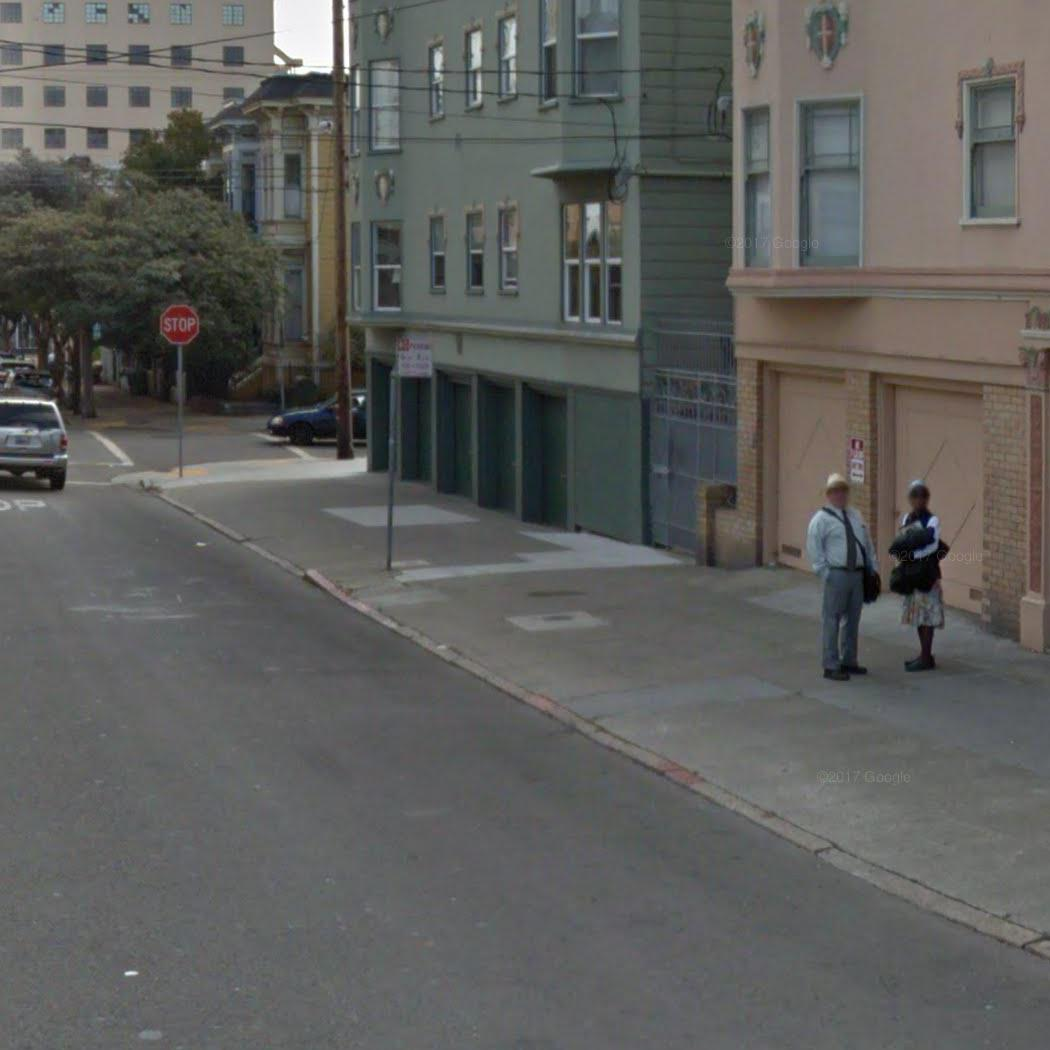No Parking: (396, 333, 435, 380)
